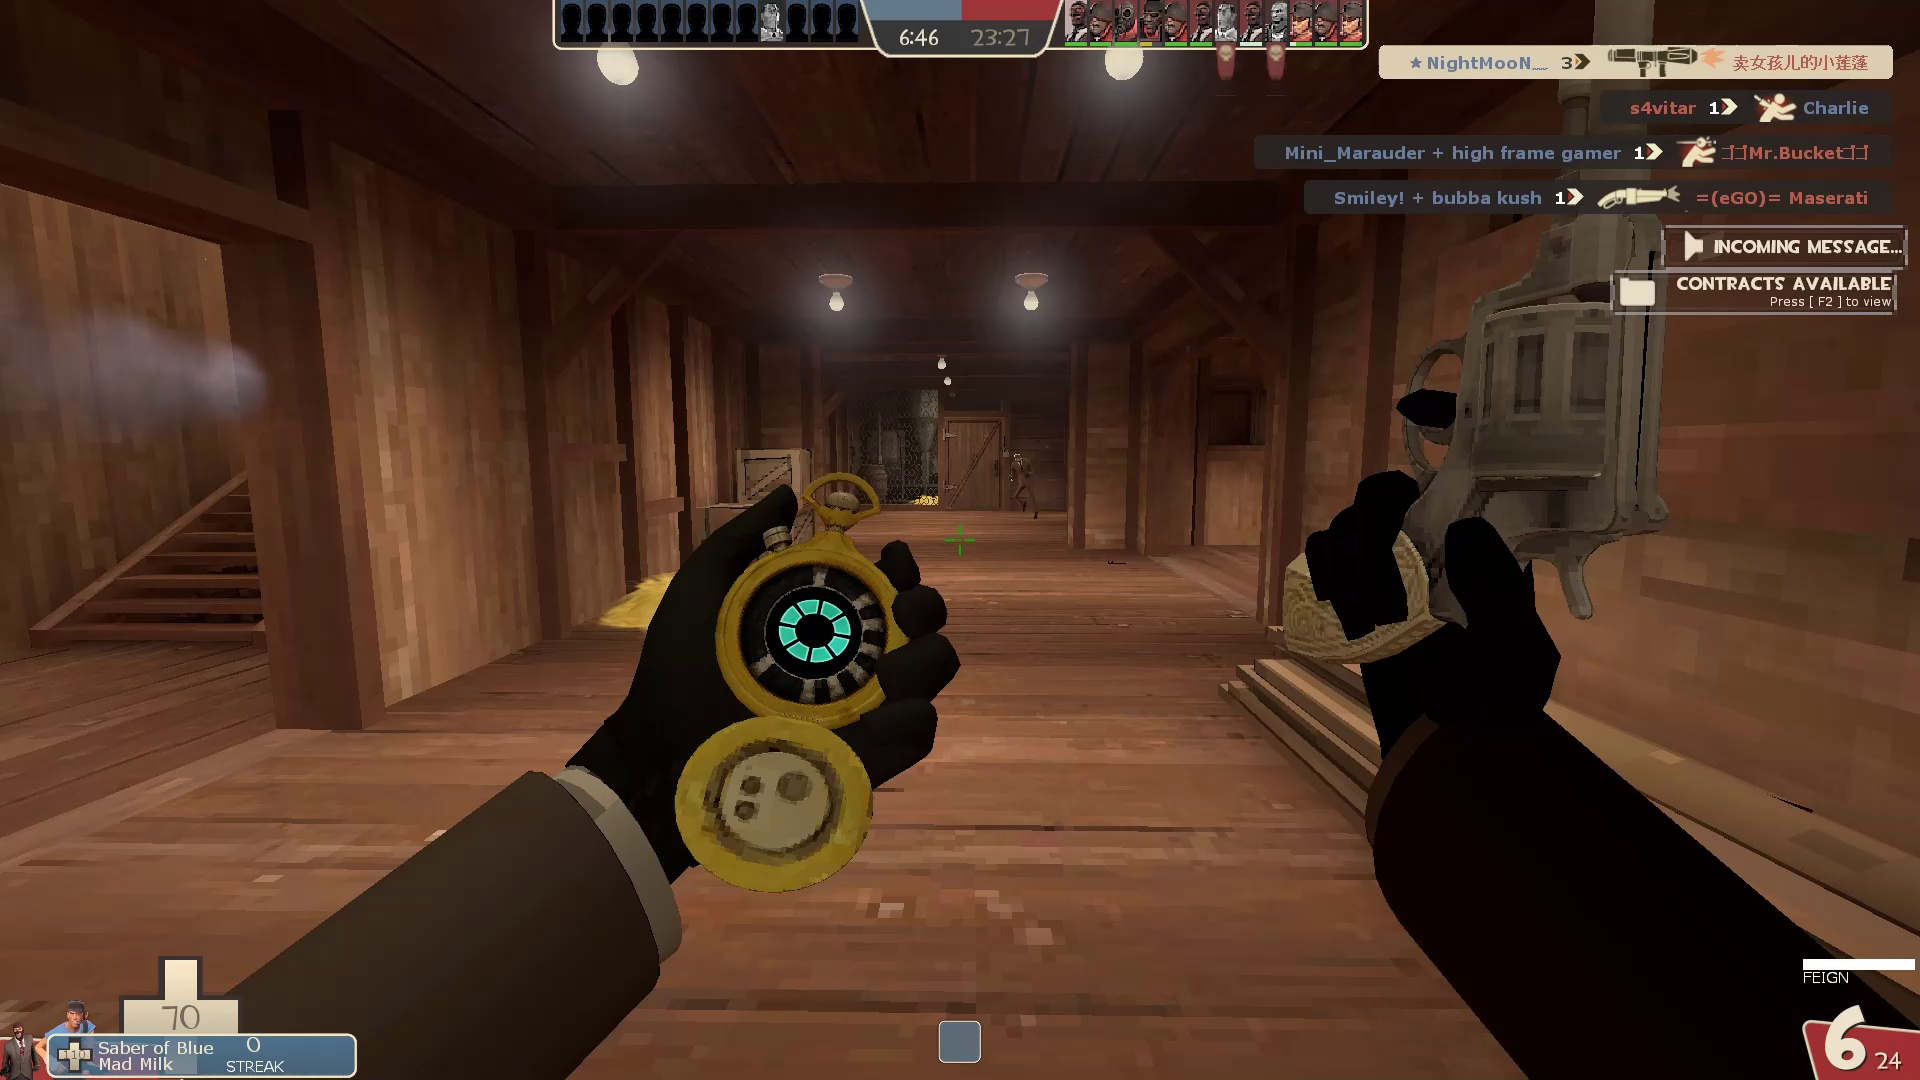red_spy: (1000, 444, 1047, 522)
